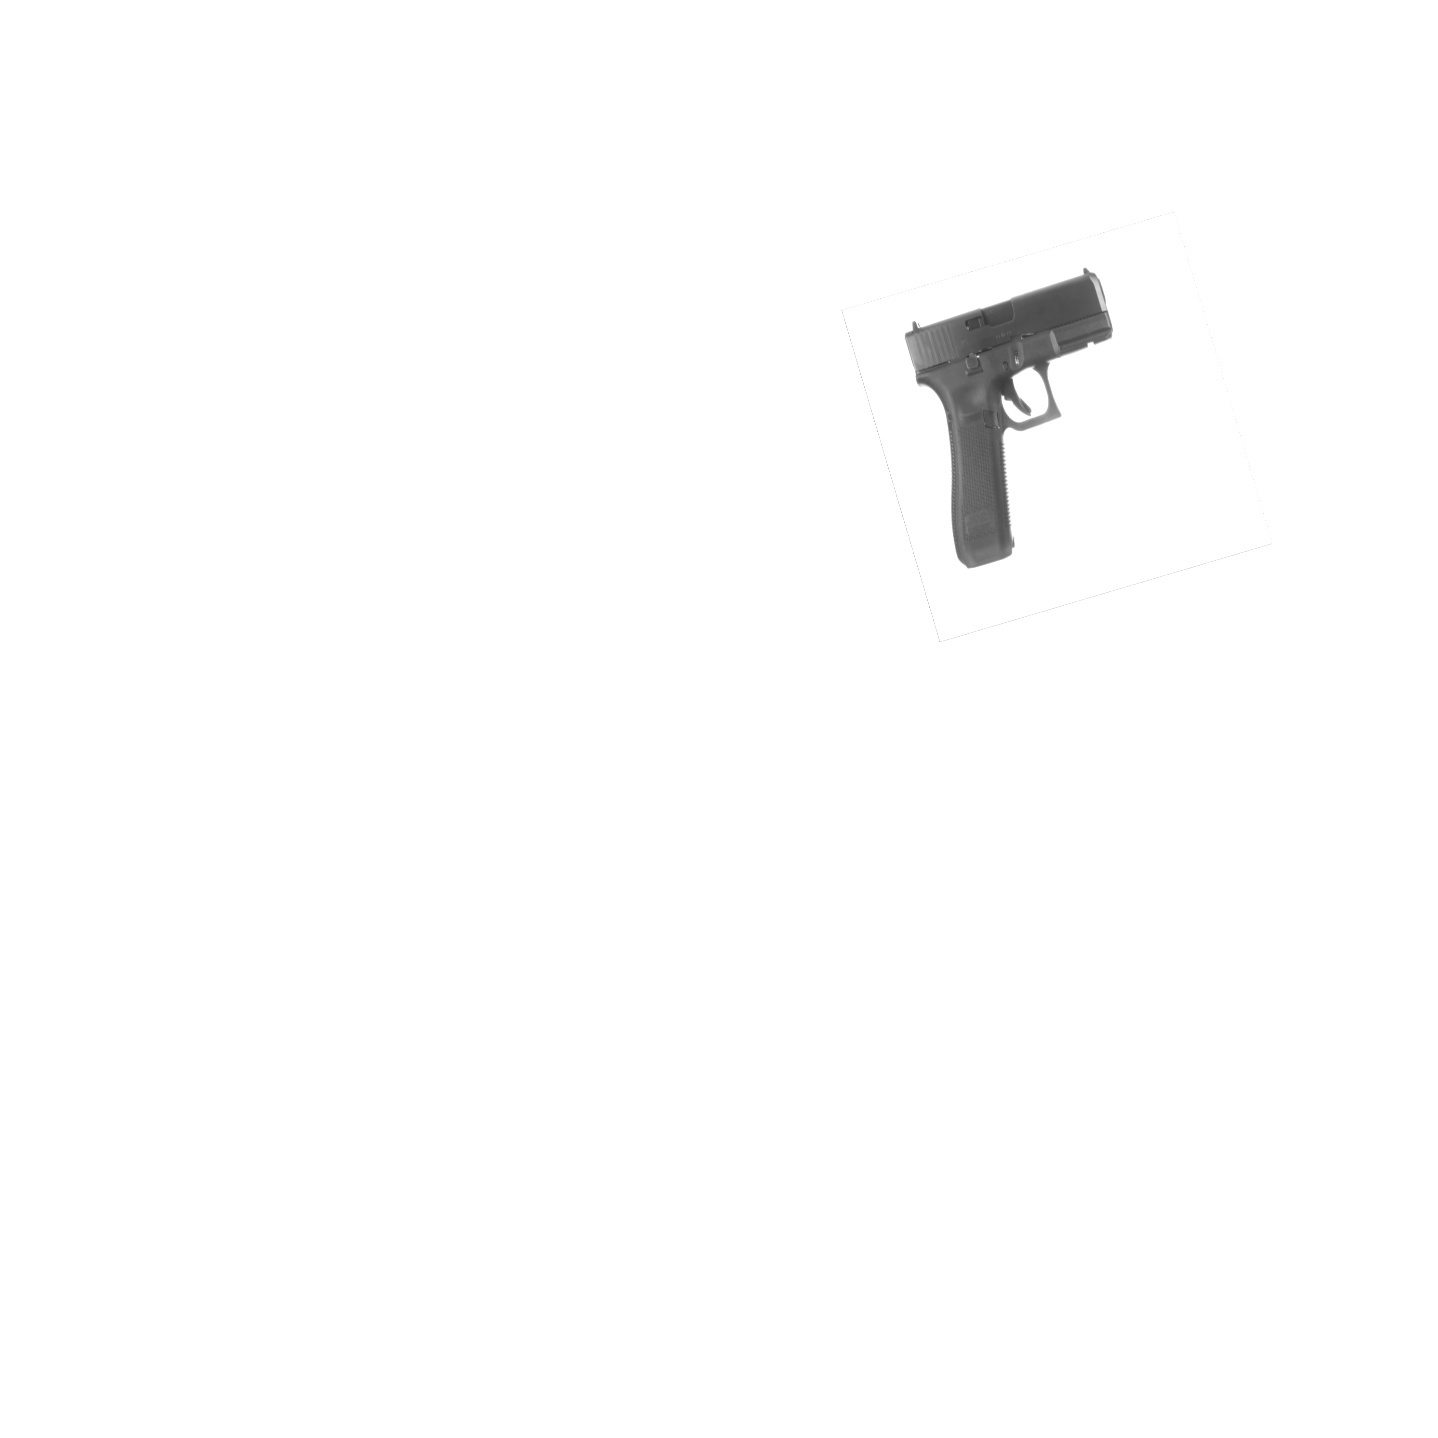gun: (884, 266, 1125, 573)
